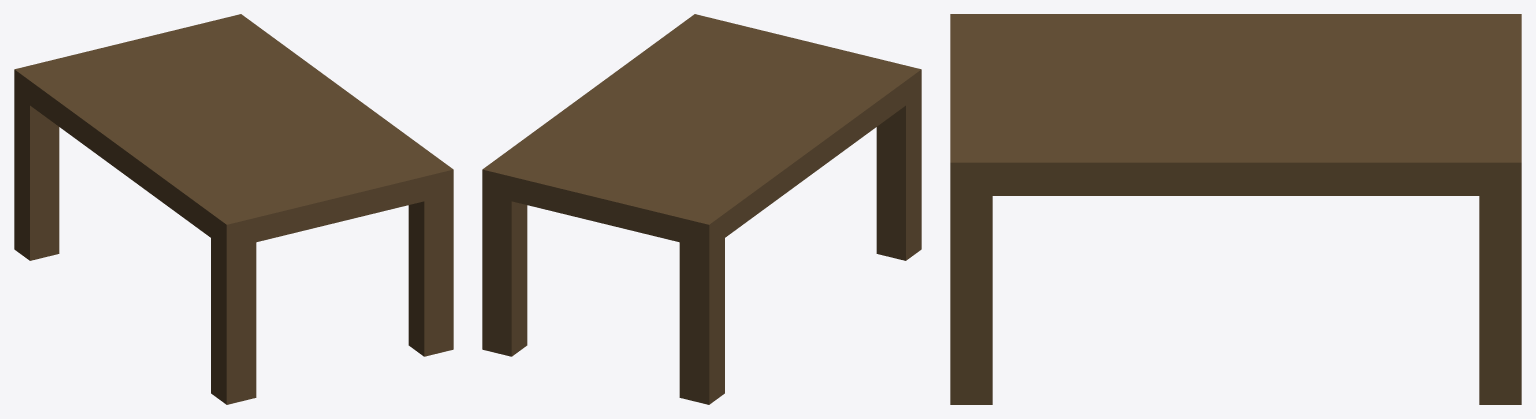
Rendered from Desk.fbx.
3 renders of one model, left to right at view 1: azimuth 30°, elevation 25°; view 2: azimuth 150°, elevation 25°; view 3: azimuth 270°, elevation 25°, orthographic. The views are drawn at different scales.
Parts seen in each view (by area): view 1: Desk; view 2: Desk; view 3: Desk.
Boxes of the visible parts, box(x1,y1,x2,y2) form: Desk: box(14, 14, 453, 404); Desk: box(482, 14, 921, 404); Desk: box(950, 14, 1521, 404).
Bounding box in the file's own units: 98.92 × 75.08 × 161.
